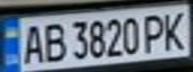0: (121, 13, 142, 55)
2: (103, 15, 127, 58)
3: (66, 17, 90, 61)
8: (87, 16, 109, 60)
A: (18, 21, 48, 65)
B: (39, 20, 69, 64)
K: (157, 8, 190, 52)
P: (139, 10, 169, 53)
